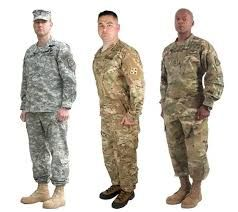uniform: (93, 41, 142, 191), (165, 35, 211, 180), (28, 44, 65, 187)
